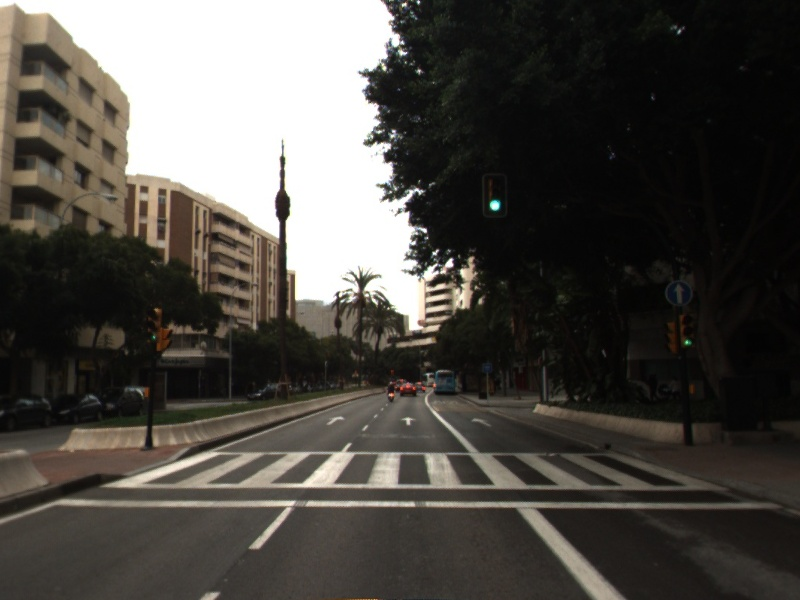STRAIGHT: (469, 415, 494, 429), (324, 414, 347, 427), (398, 414, 418, 427)
